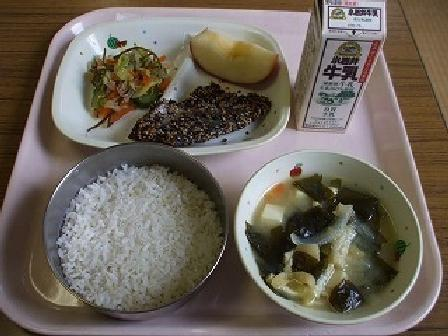Apple: (186, 20, 294, 87)
Fish: (139, 86, 272, 148)
Milk: (289, 0, 396, 135)
Rice: (45, 146, 230, 313)
Salad: (79, 40, 172, 119)
Soups: (238, 157, 430, 318)
